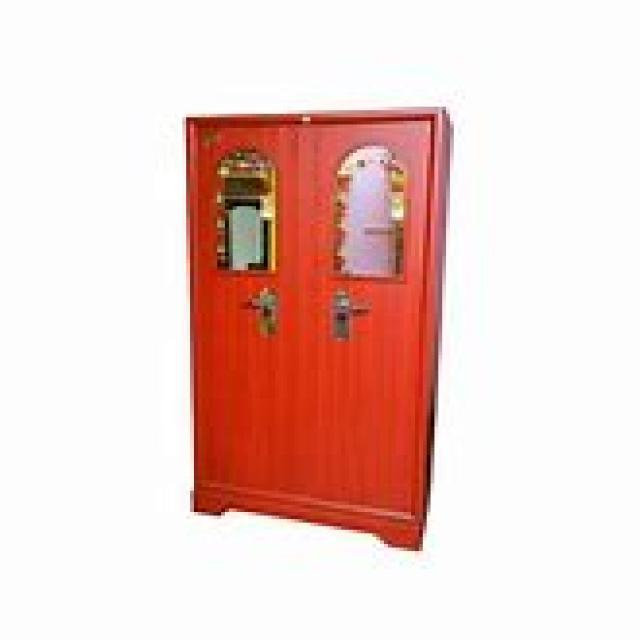dolap: (182, 103, 450, 548)
